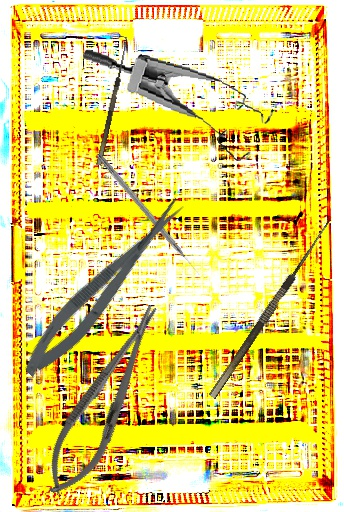Hook Surgical: (199, 212, 334, 400), (94, 152, 203, 278), (89, 35, 131, 166)
Micro Scissor: (13, 192, 197, 385)
Needle Holder: (32, 295, 177, 506)
Speculum: (72, 47, 279, 165)
